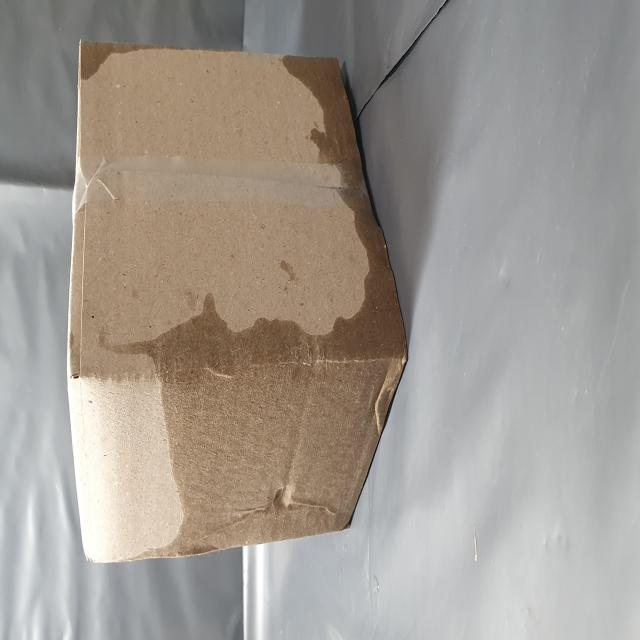wet: (40, 259, 190, 640), (191, 513, 335, 640), (310, 141, 346, 211)
